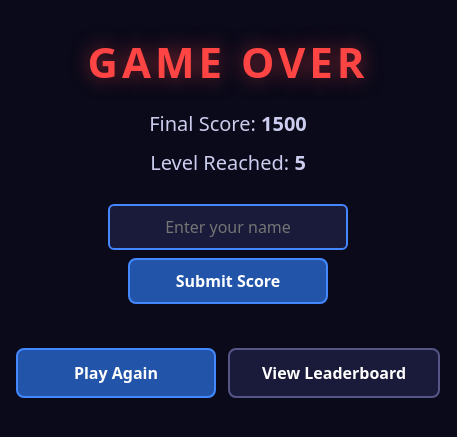
Test: GameOverScreen › should reject special characters in name
The width and height of the screenshot is (457, 437).
Type "test@user!" into the field named "Player name".
click(228, 226); type("test@user!")  # box [108,204,348,250]
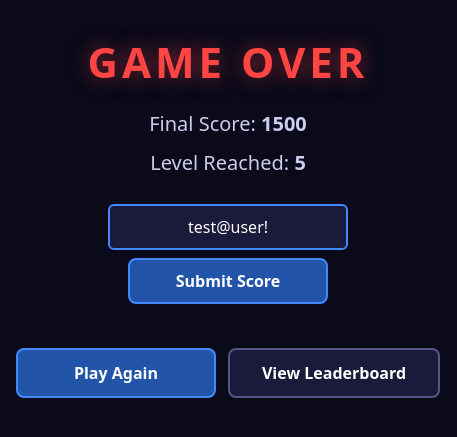
Click the button "Submit Score".
click(228, 280)  # box [128,258,328,304]
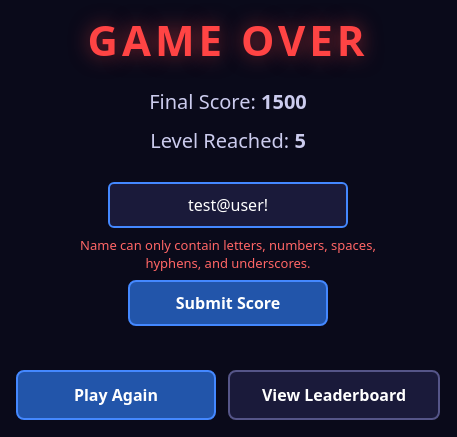
Expected: the text "Name can only contain letters, numbers, spaces, hyphens, and underscores." is shown, [78,236,378,272]
